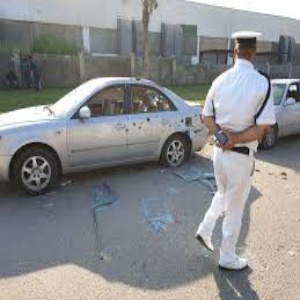door_scratch: (95, 113, 163, 159)
